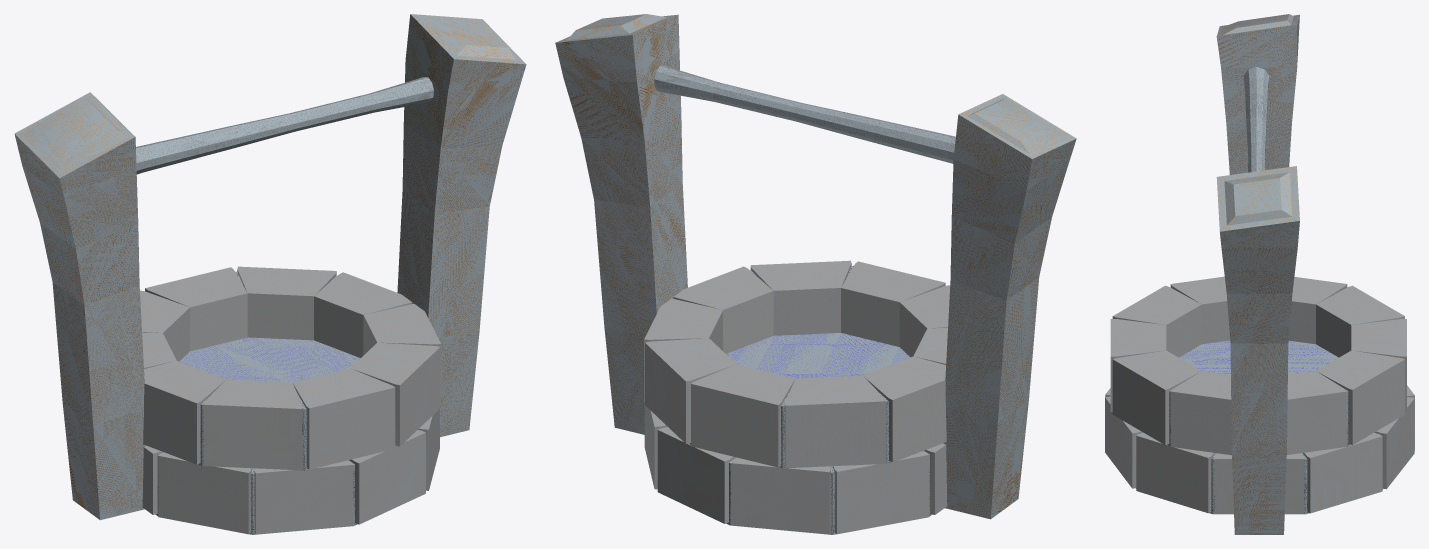
The model's file is Well_Stone_Water_01.fbx.
3 views of the same model, side by side, from view 1: azimuth 30°, elevation 25°; view 2: azimuth 150°, elevation 25°; view 3: azimuth 270°, elevation 25° (orthographic). The views are drawn at different scales.
Parts seen in each view (by area): view 1: Model; view 2: Model; view 3: Model.
Part boxes in pixels (bbox=[...]): Model: bbox=[14, 14, 526, 534]; Model: bbox=[555, 14, 1076, 534]; Model: bbox=[1105, 14, 1414, 534].
Size of the model in its own units: 845 by 684 by 536.
